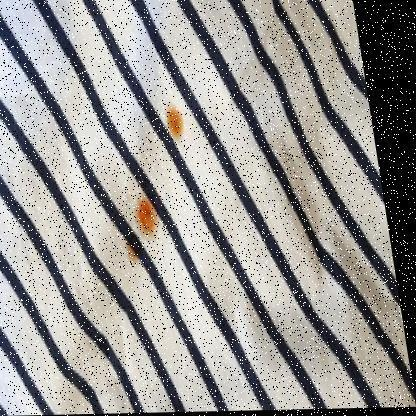kimchi: (131, 199, 160, 239), (167, 103, 186, 139), (121, 250, 139, 265)
